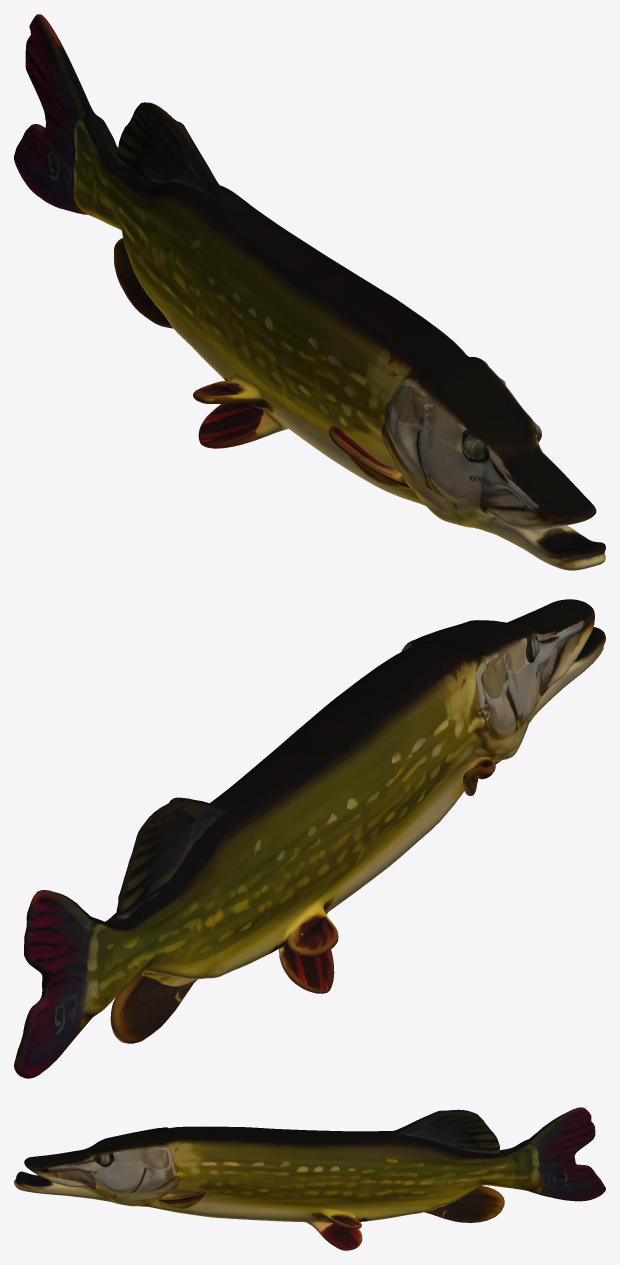
File: brochet.glb
3 views of the same model, one above another, from view 1: azimuth 30°, elevation 25°; view 2: azimuth 150°, elevation 25°; view 3: azimuth 270°, elevation 25° (orthographic). The views are drawn at different scales.
Parts seen in each view (by area): view 1: tripo_node_48f4d97a; view 2: tripo_node_48f4d97a; view 3: tripo_node_48f4d97a.
Part boxes in pixels (left/top/right/bottom): tripo_node_48f4d97a: left=14, top=14, right=605, bottom=570; tripo_node_48f4d97a: left=14, top=599, right=605, bottom=1078; tripo_node_48f4d97a: left=14, top=1107, right=605, bottom=1250.
Size of the model in its own units: 15.71 by 24.03 by 99.92.
Materials: 1 (1 with a texture image).
